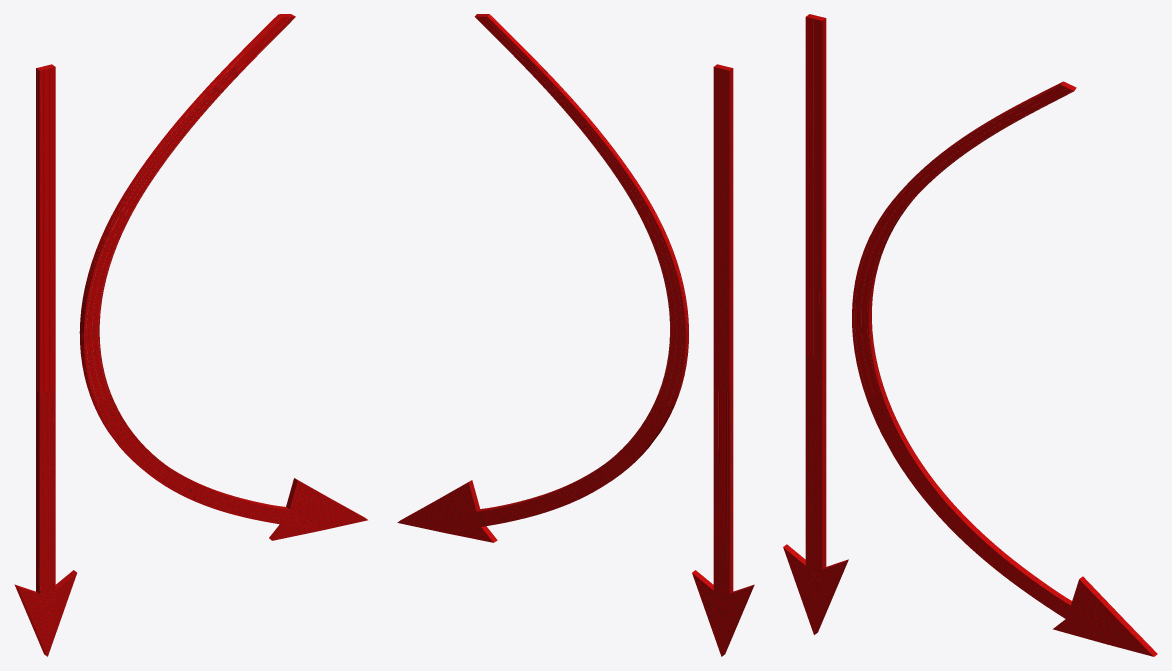
File: arrow_rectangle_down_single_bent2_Test.obj
The picture shows the model from 3 angles, left to right: view 1: azimuth 30°, elevation 25°; view 2: azimuth 150°, elevation 25°; view 3: azimuth 330°, elevation 25°; orthographic projection. The views are drawn at different scales.
Visible parts, largest first — view 1: Cube.001, Cube; view 2: Cube.001, Cube; view 3: Cube.001, Cube.
Part boxes in pixels (x1,y1,x2,y2): Cube.001: (79, 14, 367, 540); Cube: (14, 64, 76, 656); Cube.001: (397, 14, 688, 542); Cube: (692, 64, 754, 656); Cube.001: (852, 81, 1157, 656); Cube: (783, 14, 848, 634).
Bounding box in the file's own units: 1.14 × 1.82 × 0.0321.
